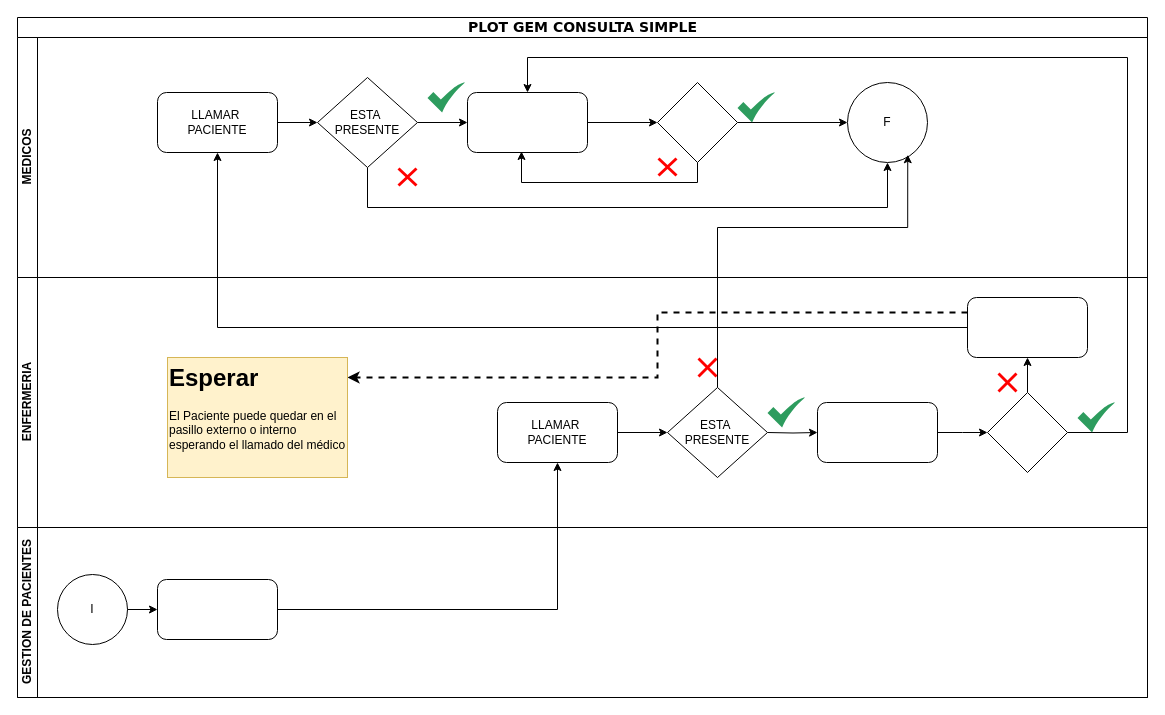
The diagram is 1165 pixels wide and 715 high, and some of its shapes have lost their labels. Each missing label, with the centre of its shape:
"ATENDER PACIENTE" belongs at point (527, 122).
"ESPERAR ATENCION MEDICA" belongs at point (1027, 327).
"FINALIZA ATENCION" belongs at point (697, 122).
"REALIZAR TRIAJE" belongs at point (877, 432).
"RECEPCIONAR PACIENTES" belongs at point (217, 609).
"Shocroom" belongs at point (1027, 432).
